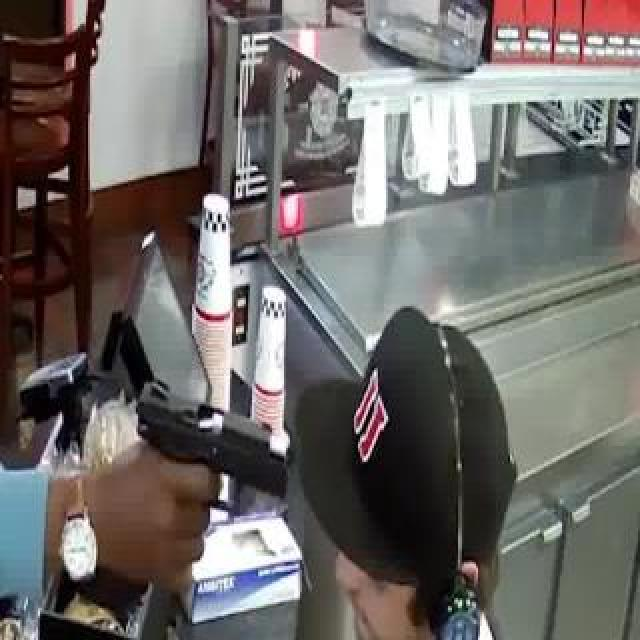Guns: (109, 353, 318, 522)
